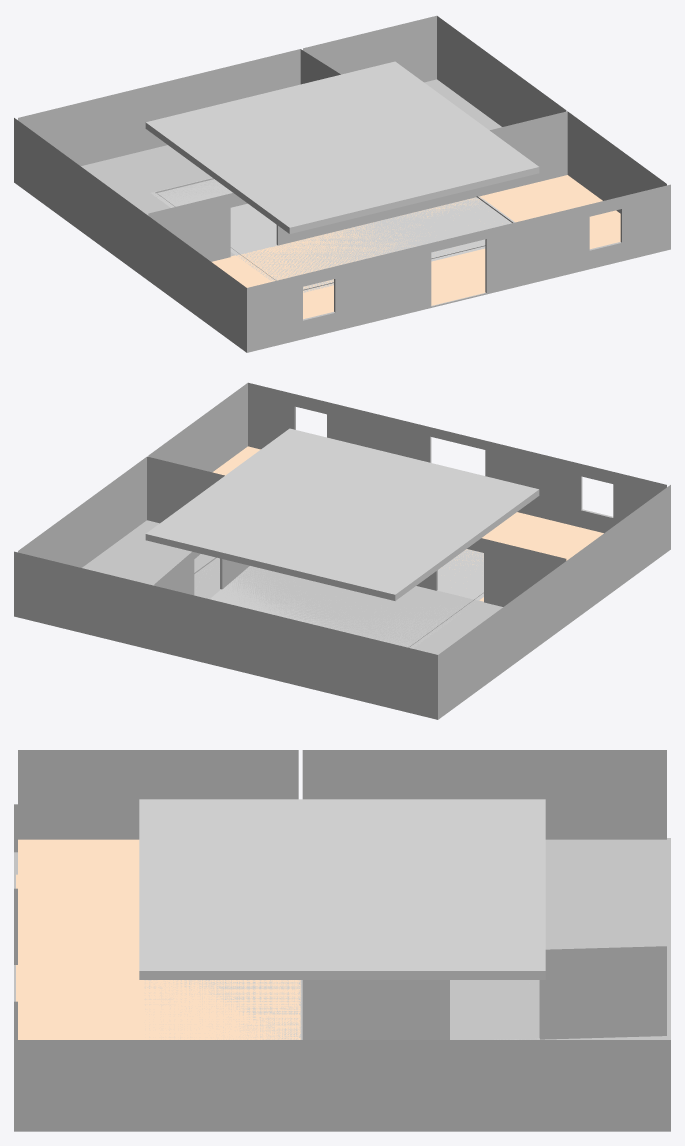
The picture shows the model from 3 angles, top to bottom: view 1: azimuth 30°, elevation 25°; view 2: azimuth 150°, elevation 25°; view 3: azimuth 270°, elevation 25°; orthographic projection. The views are drawn at different scales.
Parts seen in each view (by area): view 1: Wall, Cell, Floor, BluePrint; view 2: Wall, Cell, Floor, BluePrint; view 3: Wall, Cell, Floor, BluePrint.
Part boxes in pixels (left/top/right/bottom): Wall: left=14, top=15, right=670, bottom=351; Cell: left=145, top=61, right=539, bottom=233; Floor: left=14, top=79, right=670, bottom=352; BluePrint: left=151, top=178, right=514, bottom=292; Wall: left=14, top=382, right=670, bottom=718; Cell: left=145, top=428, right=539, bottom=600; Floor: left=14, top=446, right=670, bottom=719; BluePrint: left=194, top=549, right=483, bottom=648; Wall: left=14, top=750, right=670, bottom=1129; Cell: left=139, top=799, right=545, bottom=979; Floor: left=14, top=838, right=670, bottom=1131; BluePrint: left=144, top=980, right=538, bottom=1039.
Size of the model in its own units: 697 by 112 by 663.
